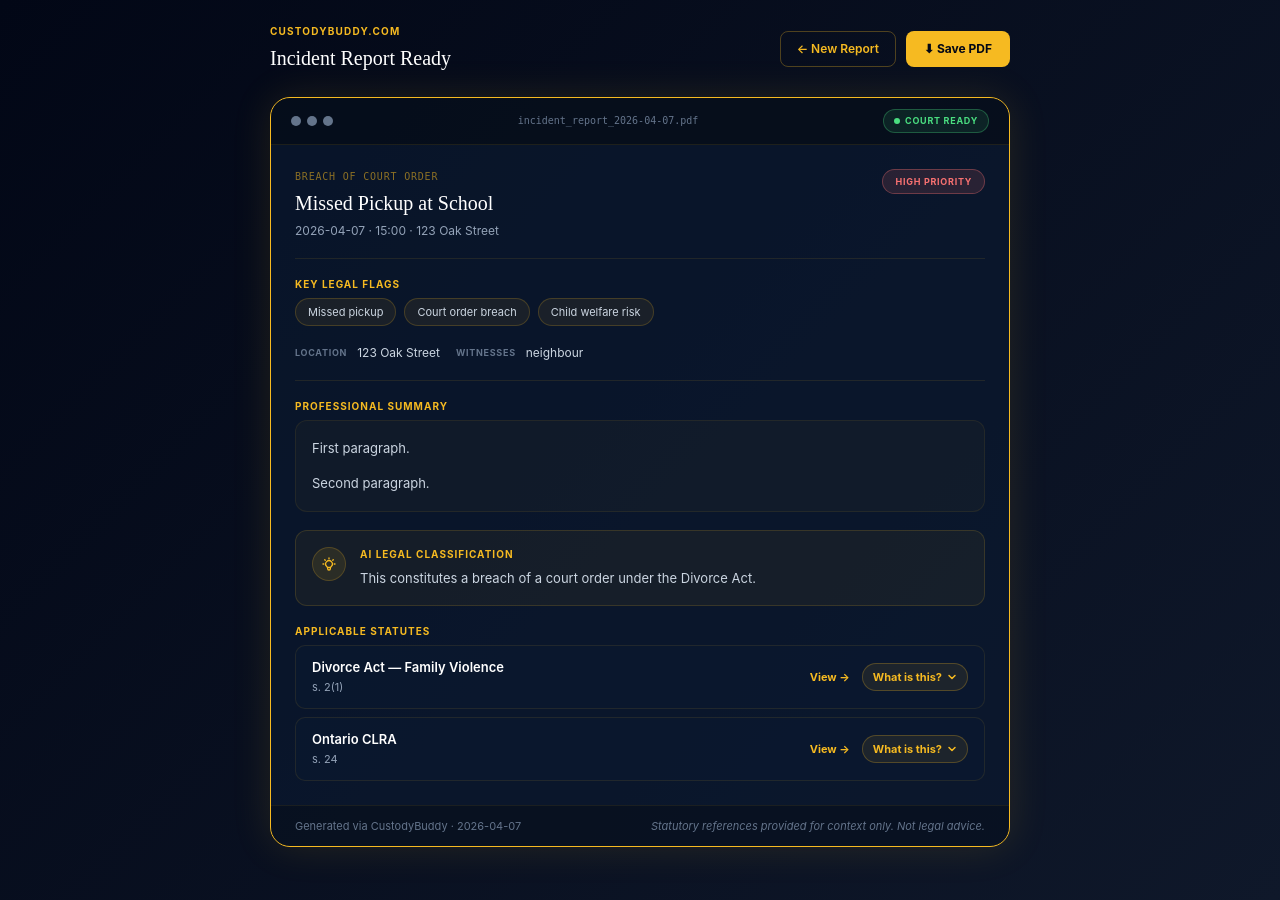
Scenario: IncidentReportCard › collapses plain language on second click
Click the button "What is this?" in the row of "Divorce Act — Family Violence".
click(915, 677)  # box 862,663 -> 968,691
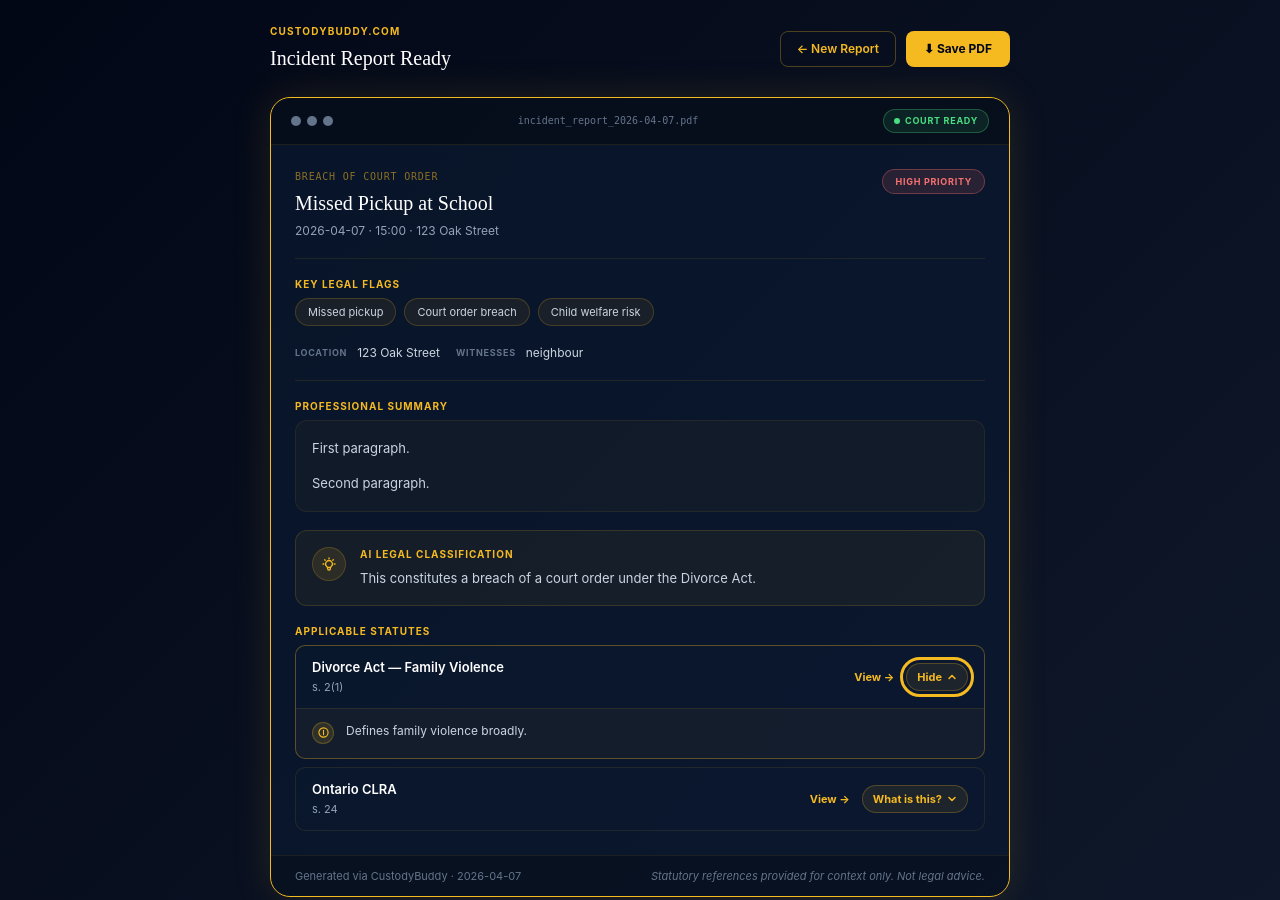
Click the button "Hide".
click(937, 677)  # box 906,663 -> 968,691
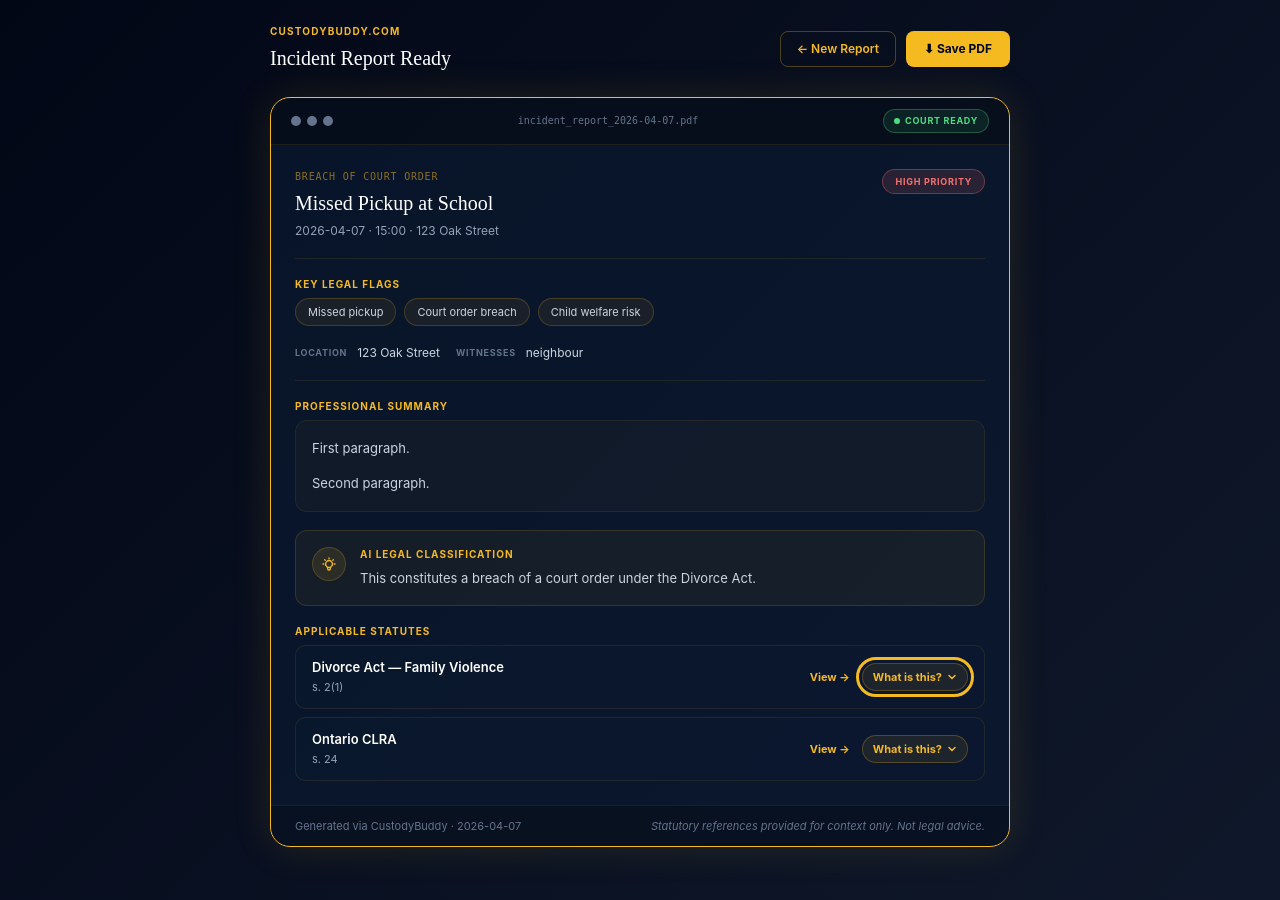
Result: the text "Defines family violence broadly." is gone
